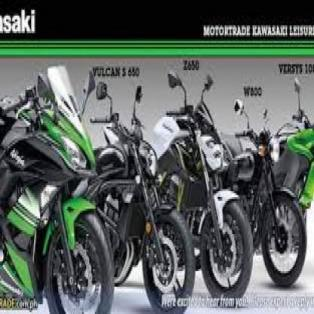Motocicleta: (0, 65, 114, 314), (94, 76, 196, 312), (164, 68, 258, 297), (226, 96, 310, 292)
